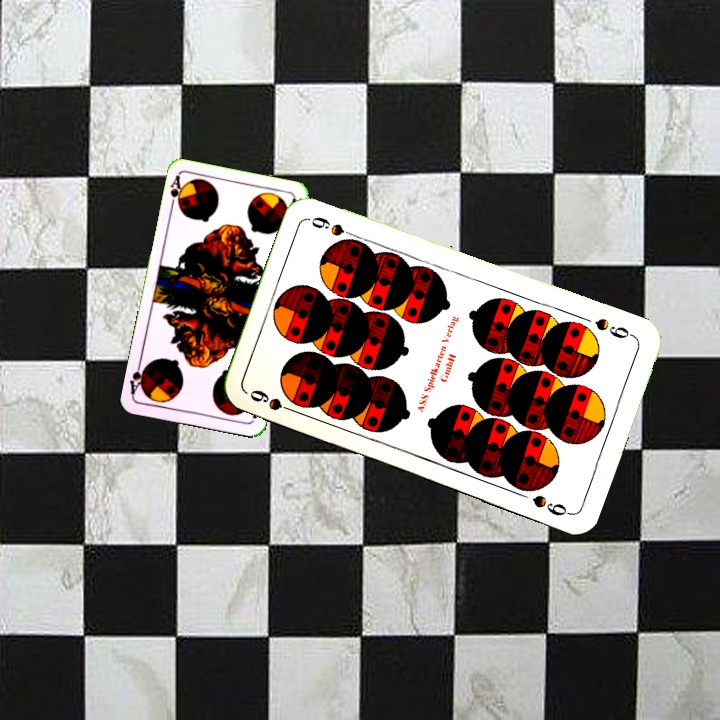S9: (245, 385, 303, 416), (591, 314, 638, 341)
SA: (166, 172, 186, 213)
